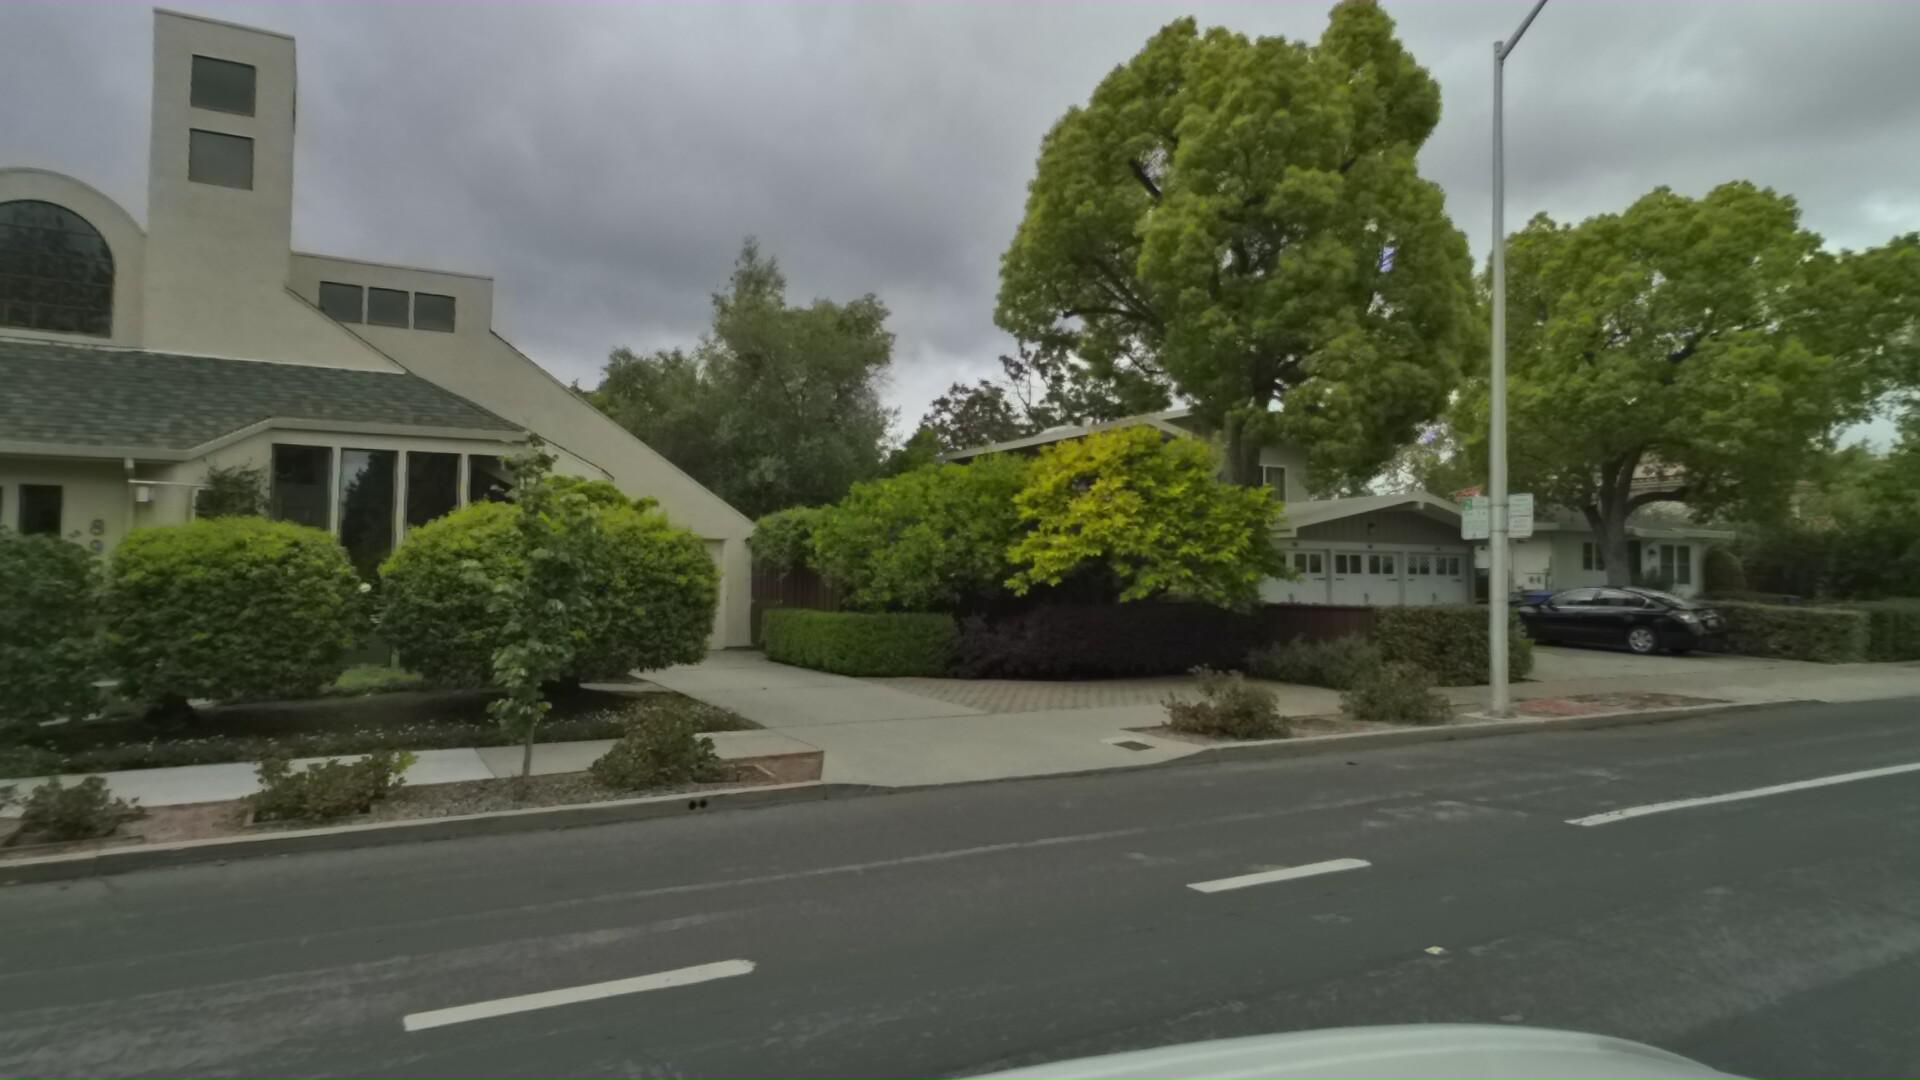car: (1472, 575, 1725, 653)
